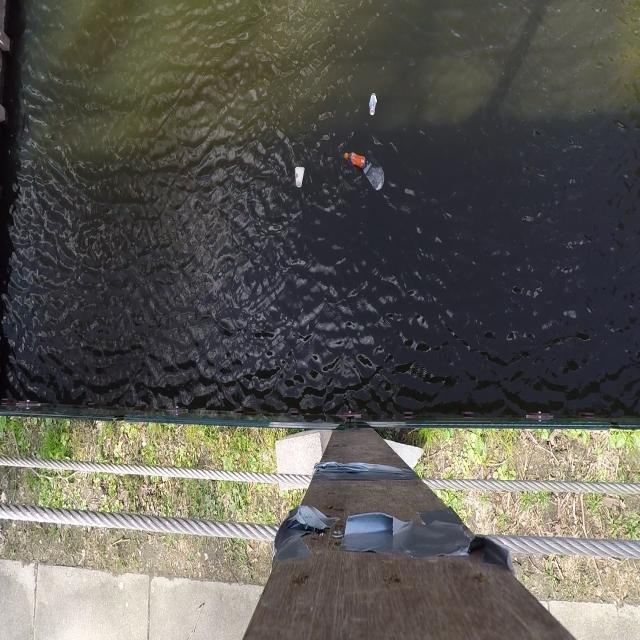Bouteille plastique: (343, 145, 369, 175)
Non plastique: (292, 160, 308, 195), (366, 90, 381, 123)
Sac plastique: (363, 164, 388, 192)
